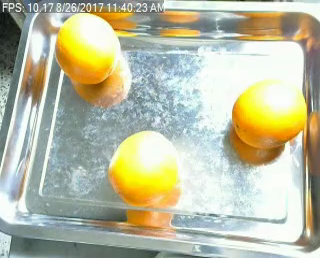Orange: (106, 130, 181, 206), (232, 79, 309, 148), (55, 12, 119, 84)
